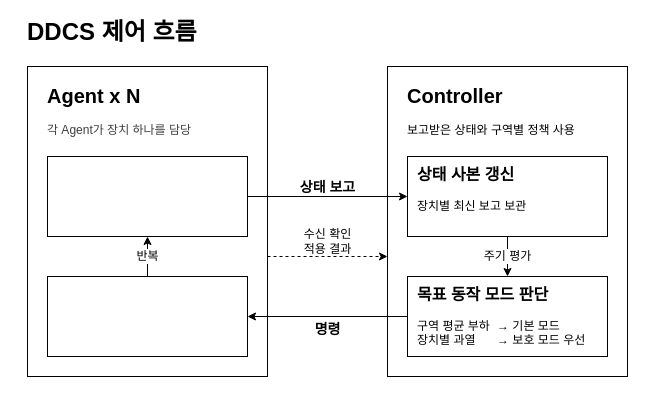
Some shapes in this 645 by 394 pixel diagram are drawn without their labels. The shapes that lost their labels are listed below. From the top down, each one's centre as x and y in pixels, then its label:
the point at 147,196: 장치 상태 조회 동작 모드·부하율 ·온도
the point at 147,316: 장치에 동작 모드 적용 다음 보고부터 반영
